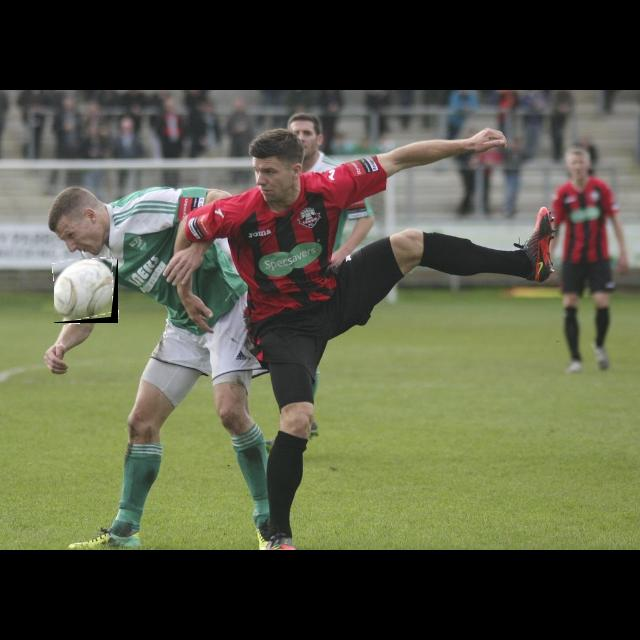Football: (54, 259, 118, 323)
